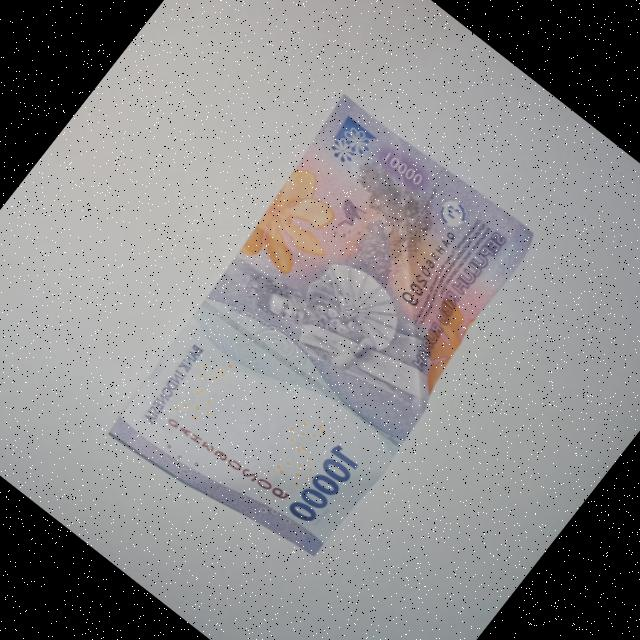10K: (67, 64, 571, 594)
